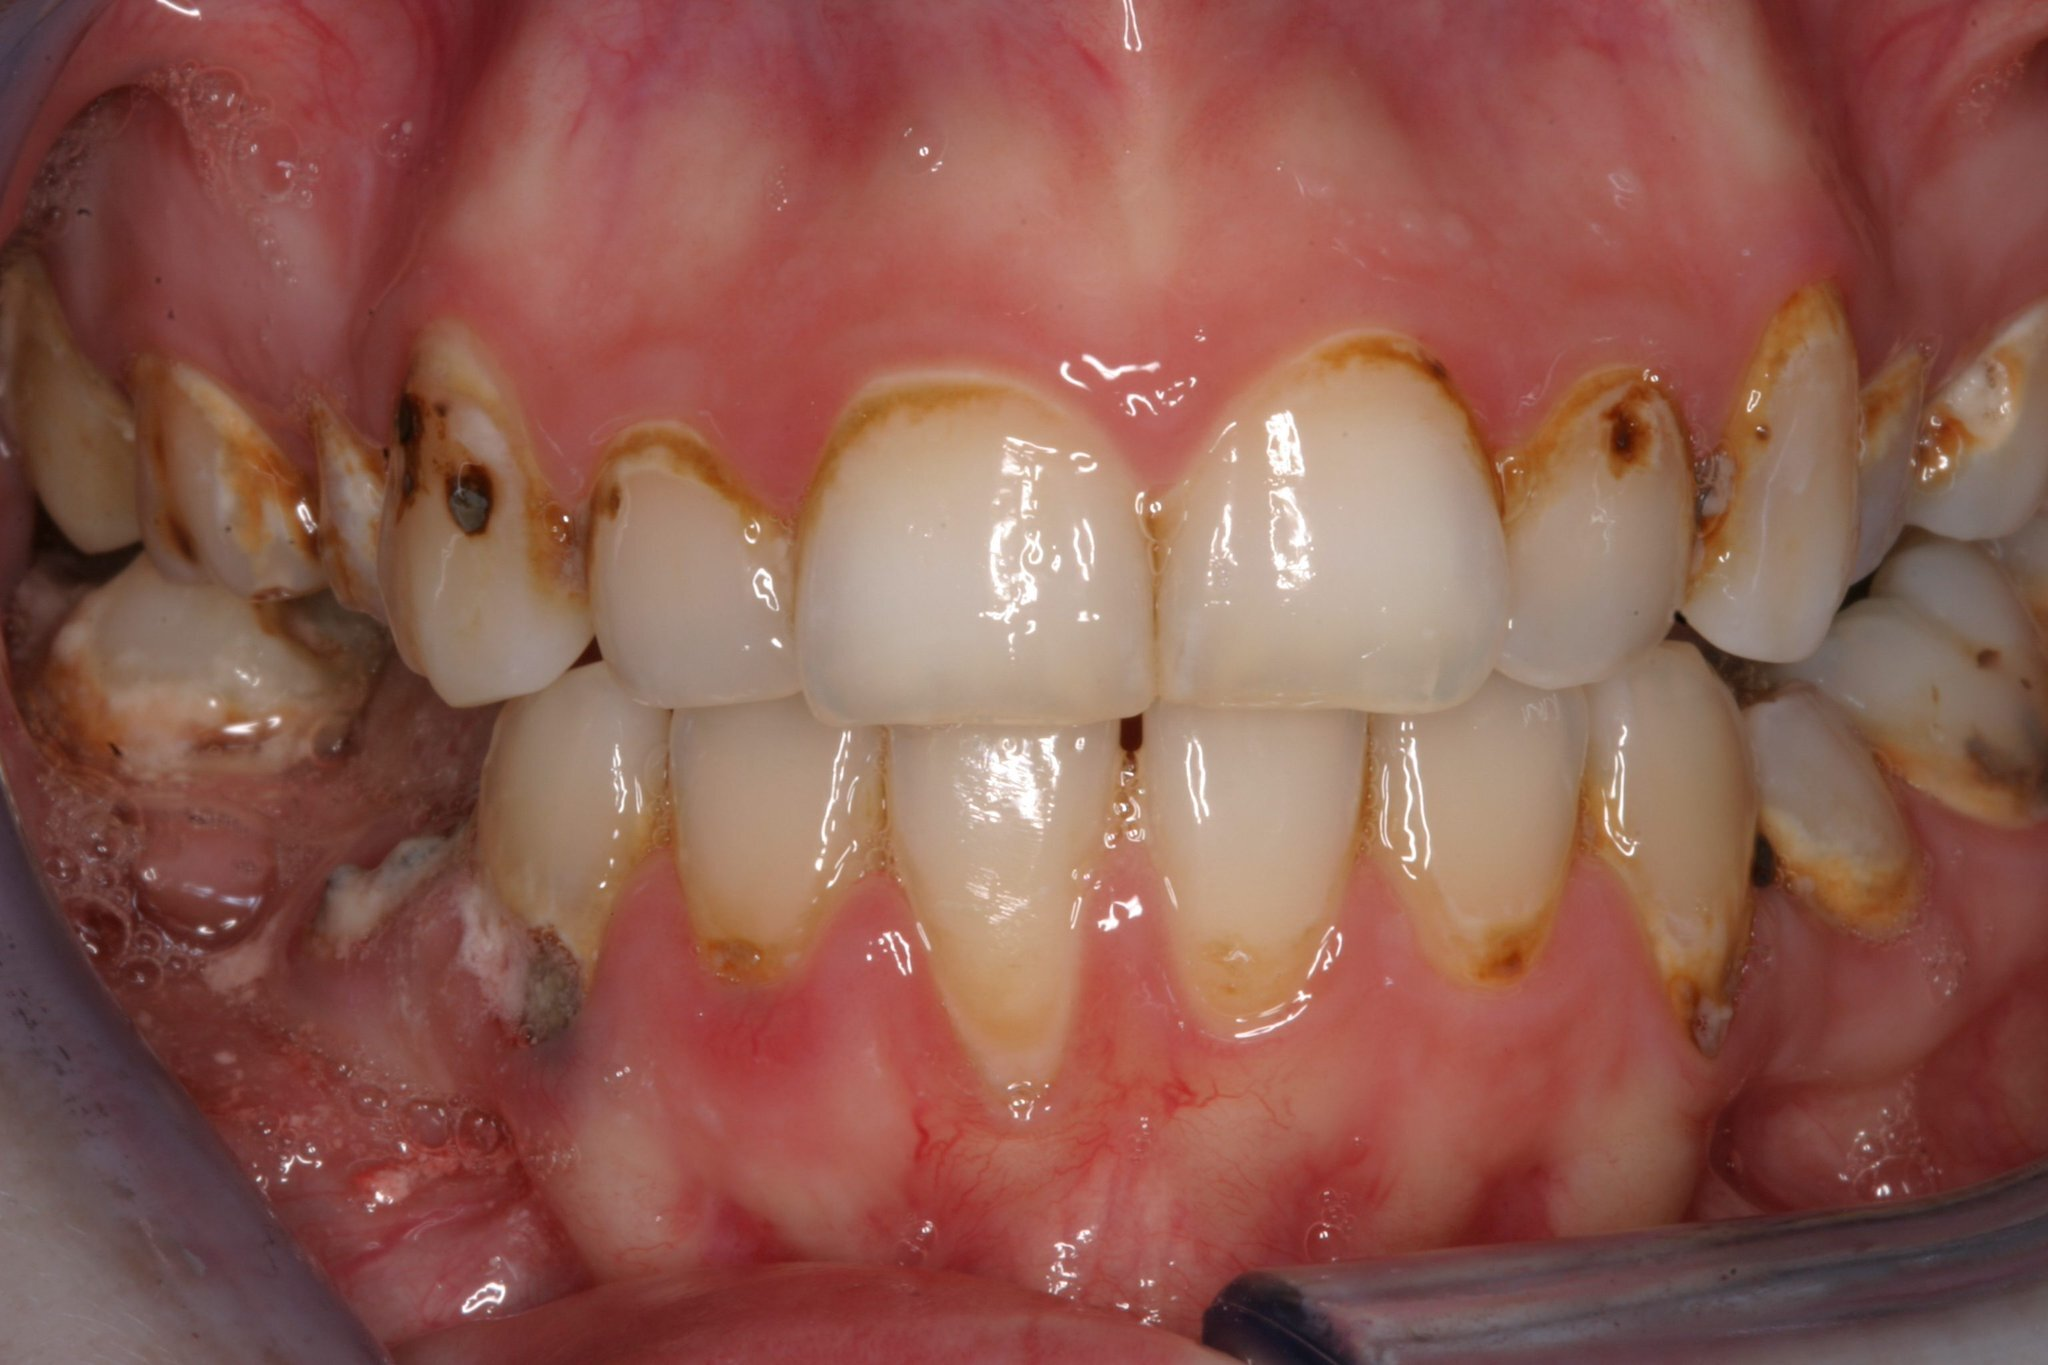LL1BC_decay: (1747, 684, 1929, 937)
LL2BC_decay: (1836, 608, 2048, 846)
LLCI_decay: (1128, 711, 1373, 1047)
LLC_decay: (1590, 669, 1756, 1059)
LLLI_decay: (1370, 705, 1596, 984)
LR1BC_decay: (311, 690, 478, 963)
LR2BC_decay: (50, 594, 321, 807)
LRCI_decay: (879, 724, 1121, 1037)
LRC_decay: (466, 704, 670, 1034)
LRLI_decay: (665, 710, 879, 998)
UL1BC_decay: (1853, 355, 1922, 593)
UL2BC_decay: (1925, 299, 2043, 539)
ULCI_decay: (1156, 335, 1507, 710)
ULC_decay: (1698, 288, 1852, 663)
ULLI_decay: (1504, 369, 1696, 689)
UR1BC_decay: (311, 416, 387, 612)
UR1M_decay: (14, 282, 136, 558)
UR2BC_decay: (137, 356, 311, 594)
URCI_decay: (792, 388, 1159, 728)
URC_decay: (384, 360, 586, 705)
URLI_decay: (586, 440, 796, 705)
